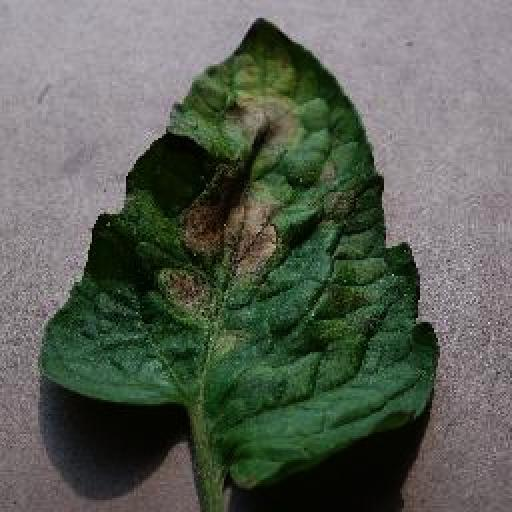disease_tomato: (34, 16, 444, 494)
